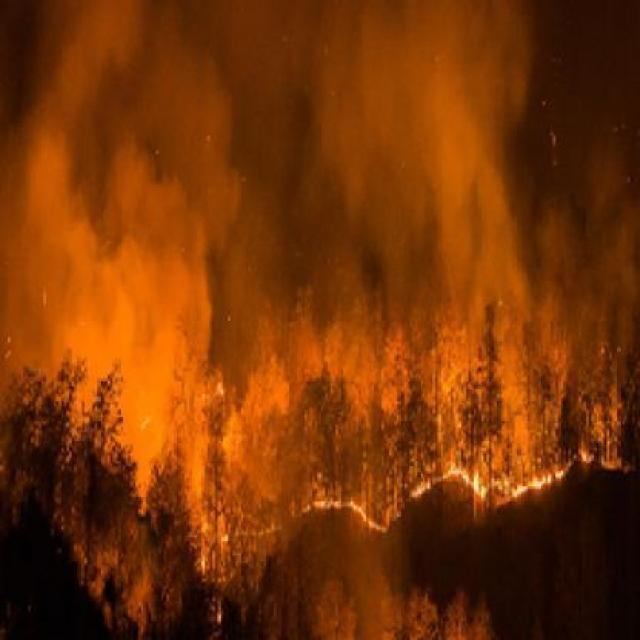Fire: (398, 437, 602, 525)
Smoke: (6, 0, 636, 298)
